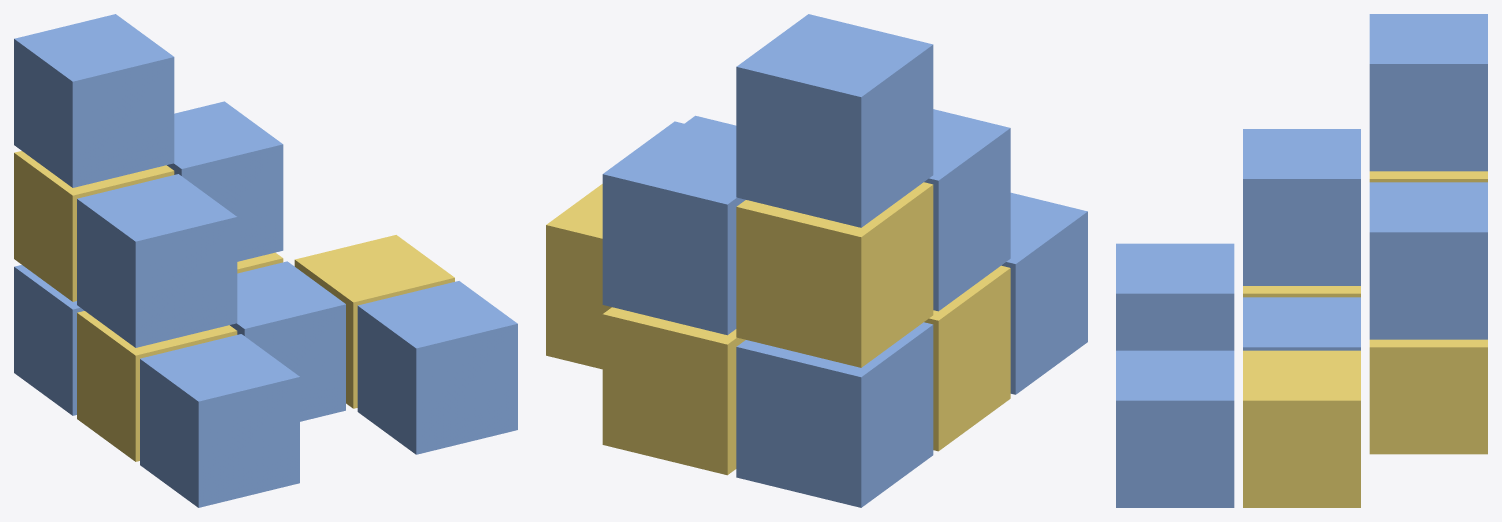
The model's file is pepejal-D.glb.
3 views of the same model, side by side, from view 1: azimuth 30°, elevation 25°; view 2: azimuth 150°, elevation 25°; view 3: azimuth 270°, elevation 25° (orthographic). The views are drawn at different scales.
Parts seen in each view (by area): view 1: pepejal; view 2: pepejal; view 3: pepejal.
Boxes of the visible parts, box(x1,y1,x2,y2) form: pepejal: box(14, 14, 517, 507); pepejal: box(546, 14, 1087, 507); pepejal: box(1116, 14, 1487, 507).
Size of the model in its own units: 0.176 by 0.176 by 0.176.
